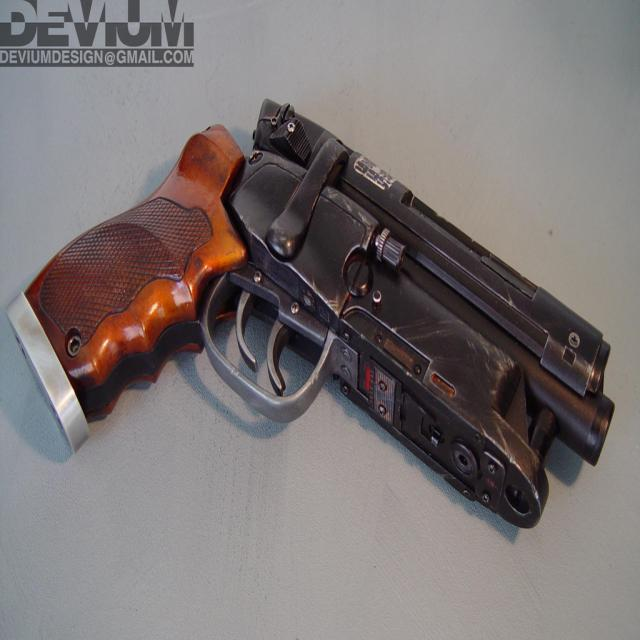Gun: (8, 100, 614, 527)
